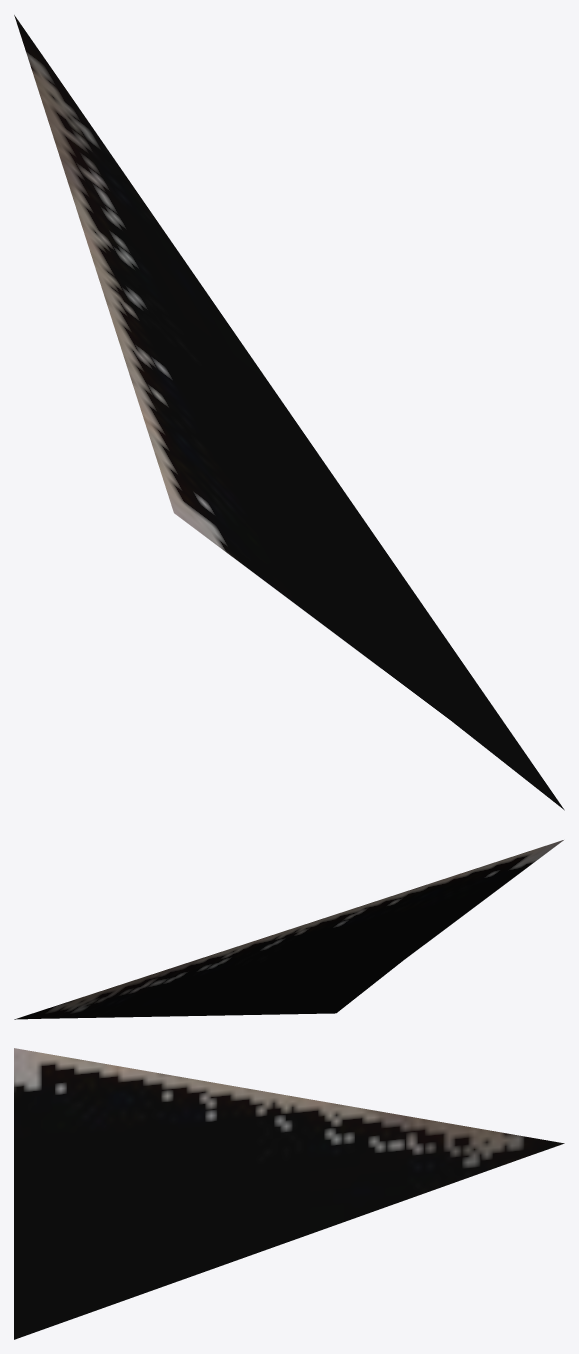
The picture shows the model from 3 angles, top to bottom: view 1: azimuth 30°, elevation 25°; view 2: azimuth 150°, elevation 25°; view 3: azimuth 270°, elevation 25°; orthographic projection. The views are drawn at different scales.
Size of the model in its own units: 0.2223 by 0.2135 by 0.5426.
Materials: 1 (1 with a texture image).
